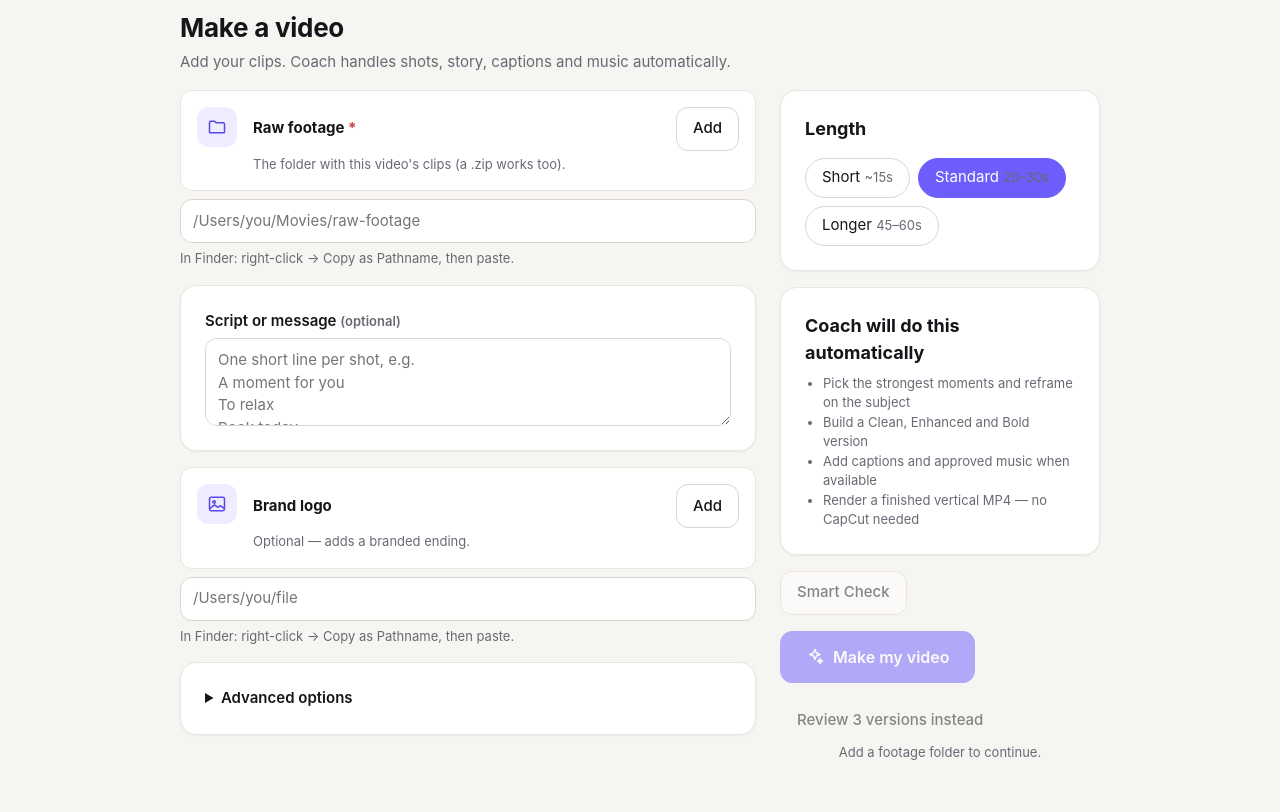
CreateFlow › renders Smart Check with Needed and Suggestions in plain language
Step 1. Type "/Users/me/Movies/raw" into the field named "Raw footage path" → (468, 221), box [180,199,756,243]
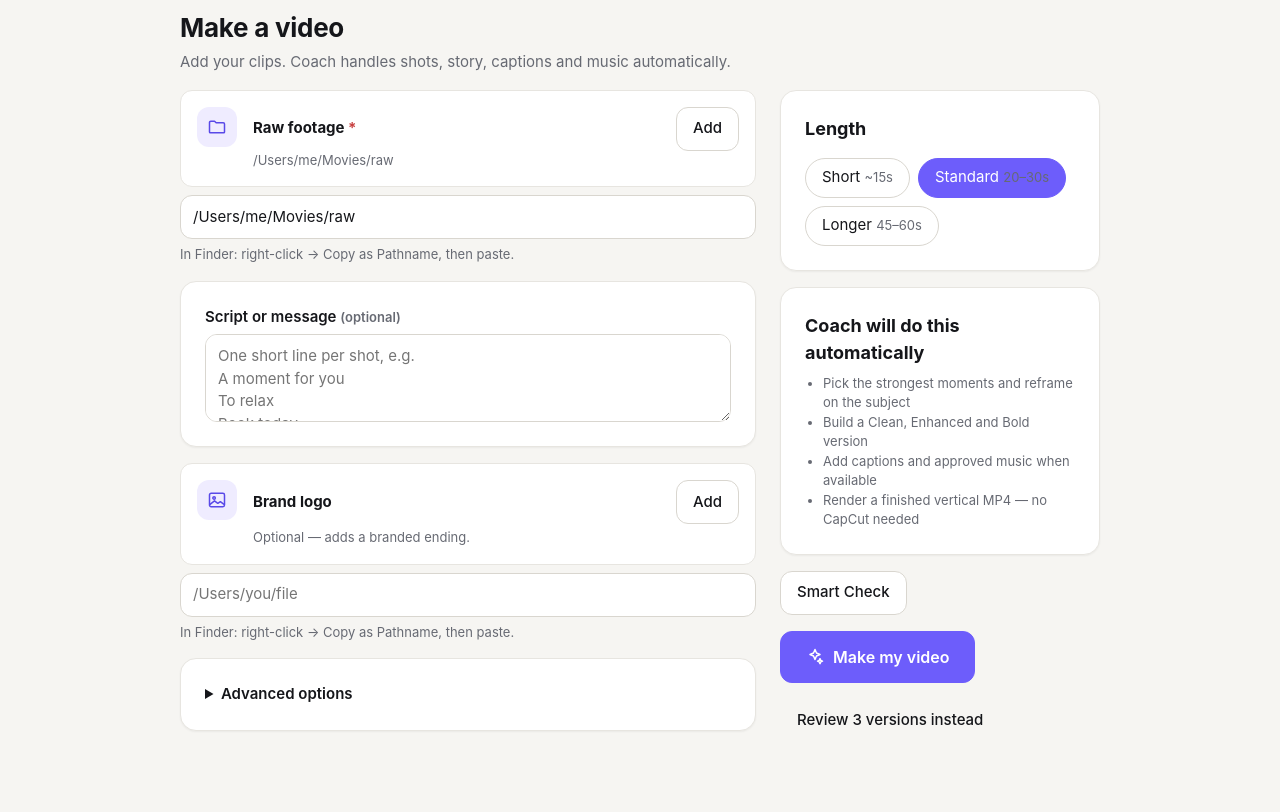
Step 2. Click the button "Smart Check" → (843, 593), box [780,571,907,615]
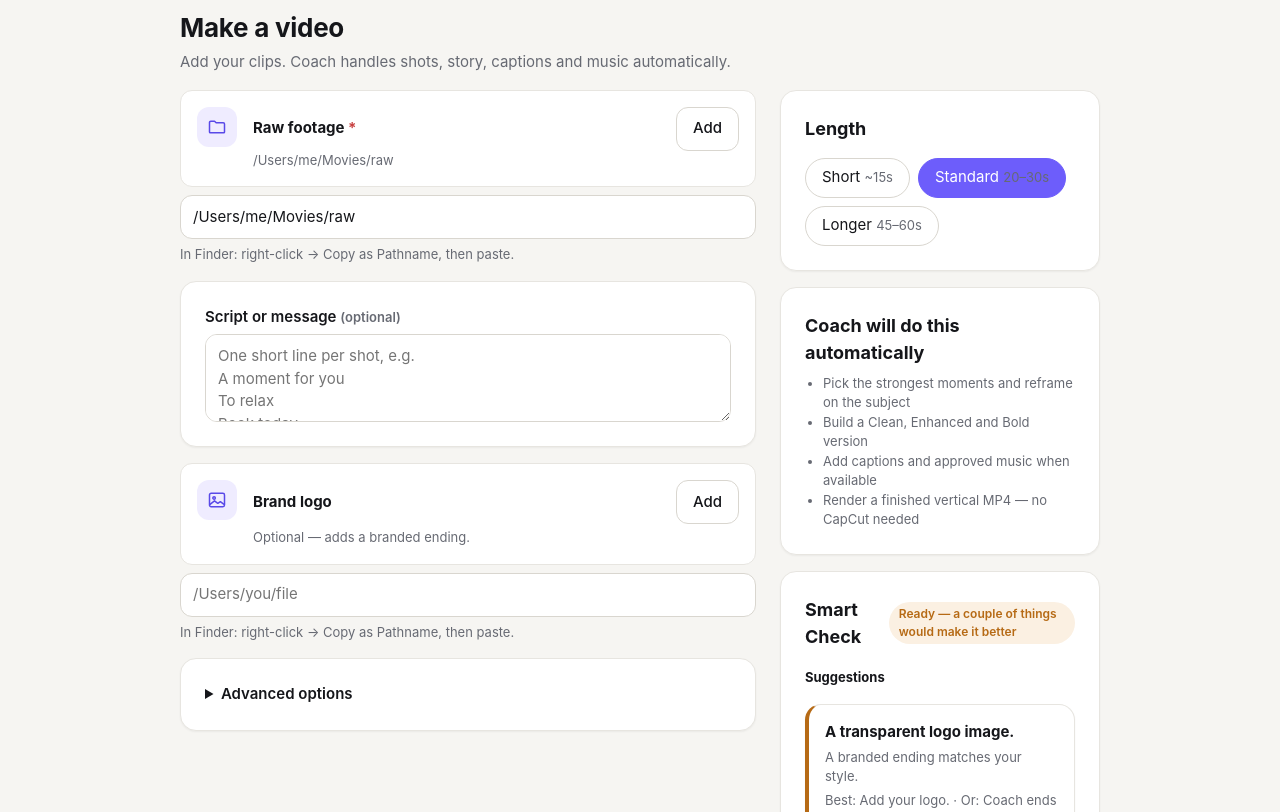
Now the text "Ready — a couple of things would make it better" is shown, box [889,602,1075,644]
Now the text "Suggestions" is shown, box [805,669,885,685]
Now the text "A transparent logo image." is shown, box [825,722,1014,741]
